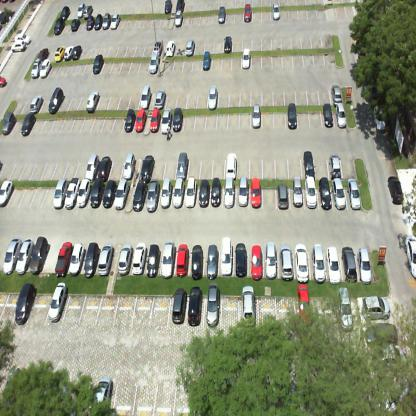car: (14, 282, 36, 327), (385, 375, 409, 415), (372, 344, 405, 371), (1, 236, 22, 276), (336, 286, 354, 332), (47, 282, 67, 322), (14, 238, 34, 275), (29, 237, 48, 275), (341, 243, 358, 285), (365, 324, 397, 346), (362, 296, 391, 320), (53, 241, 72, 277), (93, 378, 114, 410), (325, 244, 341, 286), (242, 284, 257, 328), (206, 282, 220, 327), (294, 240, 309, 282), (297, 282, 311, 326), (171, 287, 187, 325), (187, 286, 202, 326), (279, 242, 294, 281), (312, 242, 326, 283), (67, 242, 84, 275), (64, 177, 81, 210), (131, 241, 147, 276), (161, 239, 175, 279), (84, 241, 99, 278), (220, 236, 233, 278), (98, 243, 113, 277), (317, 177, 332, 211), (100, 179, 116, 210), (52, 178, 68, 209), (331, 177, 346, 210), (304, 176, 319, 209), (347, 175, 361, 210), (387, 172, 403, 202), (146, 244, 160, 278), (190, 245, 203, 281), (133, 181, 148, 212), (118, 243, 132, 276), (145, 179, 159, 212), (360, 247, 372, 285), (405, 233, 415, 278), (48, 87, 64, 115), (176, 244, 189, 278), (89, 178, 103, 209), (206, 243, 218, 279), (235, 243, 247, 278), (76, 178, 90, 208), (251, 244, 262, 282), (266, 241, 277, 279), (96, 154, 112, 180), (20, 113, 36, 139), (250, 175, 262, 209), (160, 177, 172, 211), (115, 179, 128, 210), (223, 178, 235, 211), (185, 177, 197, 210), (159, 108, 173, 136), (85, 153, 100, 179), (172, 178, 184, 210), (277, 182, 290, 211), (140, 155, 154, 181), (122, 152, 136, 178), (0, 179, 13, 207), (292, 177, 304, 207), (198, 179, 210, 209), (374, 104, 386, 133), (1, 112, 16, 135), (225, 152, 238, 178), (134, 107, 147, 133), (328, 151, 340, 179), (303, 149, 315, 177), (177, 151, 189, 179), (122, 107, 135, 132), (238, 176, 248, 208), (86, 90, 100, 112), (287, 101, 298, 129), (152, 88, 166, 110), (211, 178, 221, 208), (171, 106, 183, 131), (335, 103, 347, 128), (149, 109, 161, 133), (207, 86, 218, 112), (140, 84, 151, 110), (29, 58, 43, 78), (250, 105, 261, 130), (322, 102, 333, 127), (29, 94, 43, 113), (38, 58, 51, 78), (148, 53, 160, 74), (54, 43, 66, 64), (331, 84, 342, 106), (91, 54, 103, 74), (172, 9, 184, 28), (53, 17, 65, 36), (11, 38, 26, 53), (165, 39, 176, 59), (223, 35, 233, 57), (241, 47, 250, 71), (15, 32, 32, 44), (186, 38, 196, 57), (93, 13, 103, 32), (272, 2, 281, 23), (71, 44, 82, 61), (110, 13, 120, 31), (217, 5, 226, 24), (86, 15, 96, 32), (202, 50, 210, 71), (153, 38, 163, 54), (64, 44, 74, 60), (75, 2, 85, 18), (83, 4, 93, 20), (102, 13, 110, 31), (38, 46, 48, 60), (60, 5, 70, 19), (163, 1, 172, 16), (174, 0, 186, 11), (70, 20, 80, 32), (244, 5, 251, 22), (0, 75, 8, 87)
